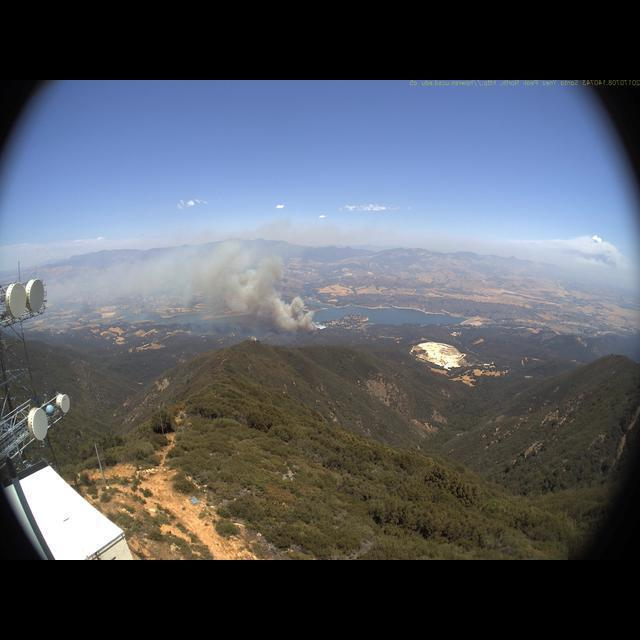Smoke: (55, 230, 330, 333)
